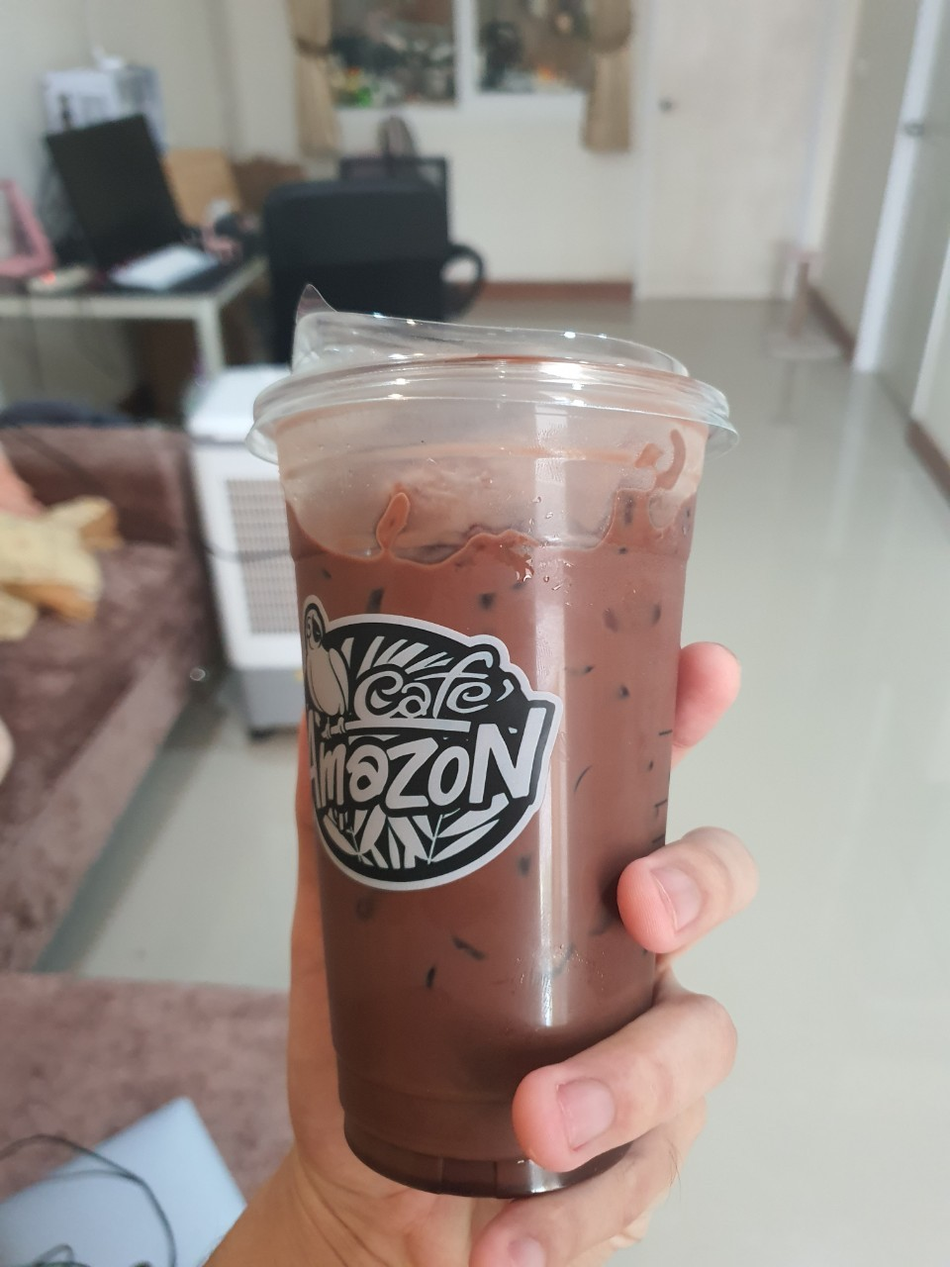plastic: (228, 266, 751, 1212)
